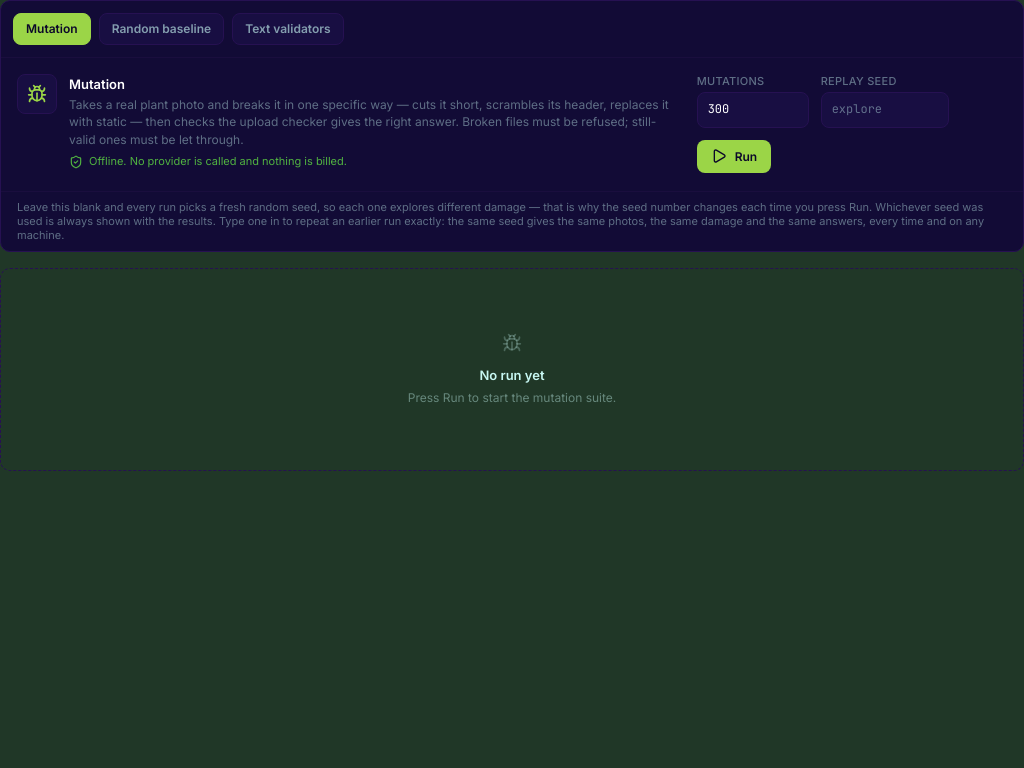
FuzzTests › fills the replay field from a finished run
Click the button "Run": [734, 156] box [697,140,771,173]
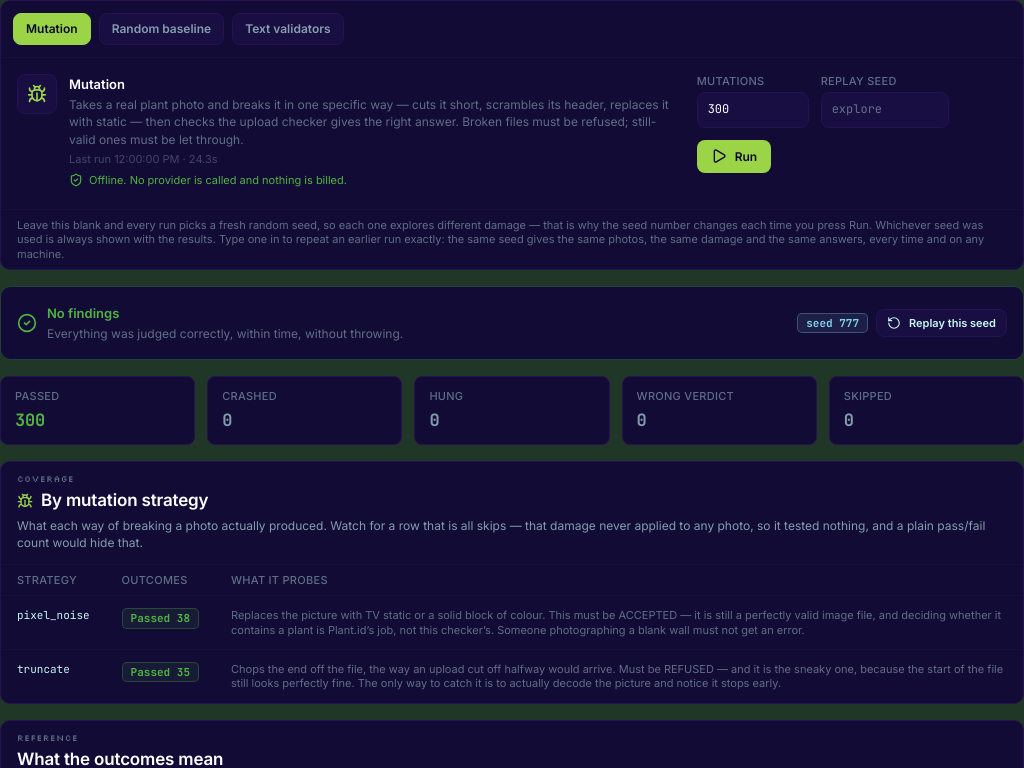
Click the button "Replay this seed": [942, 323] box [876,309,1007,337]
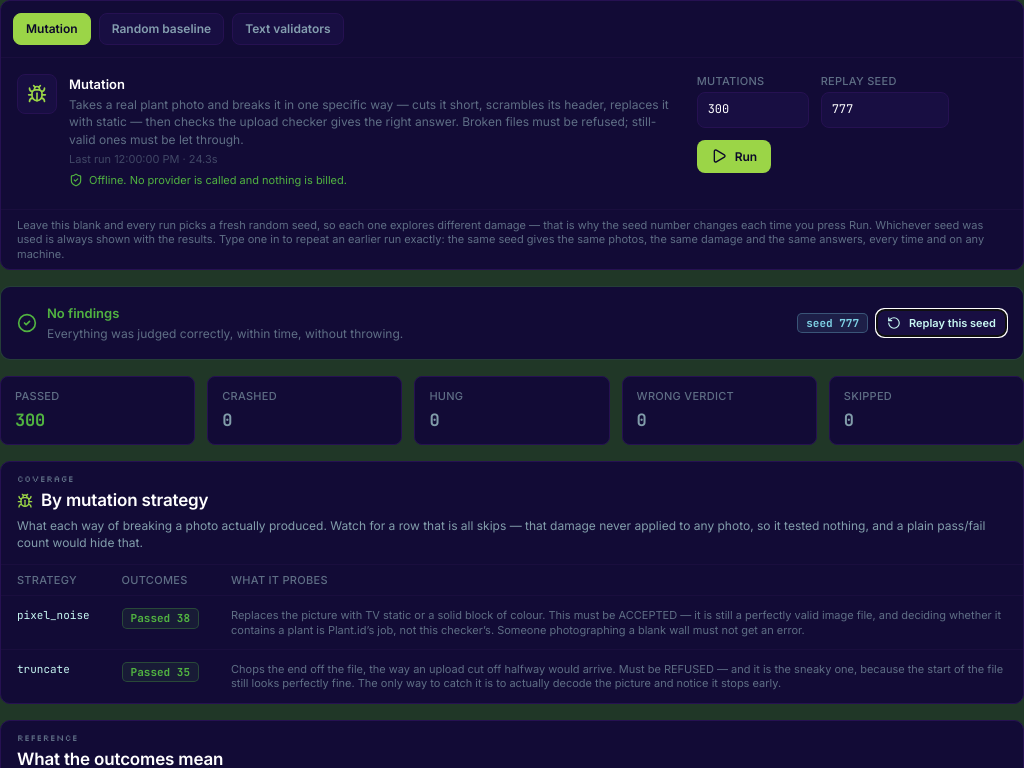
Expected: the field labelled "Replay seed" holds "777", [821,92,949,128]
